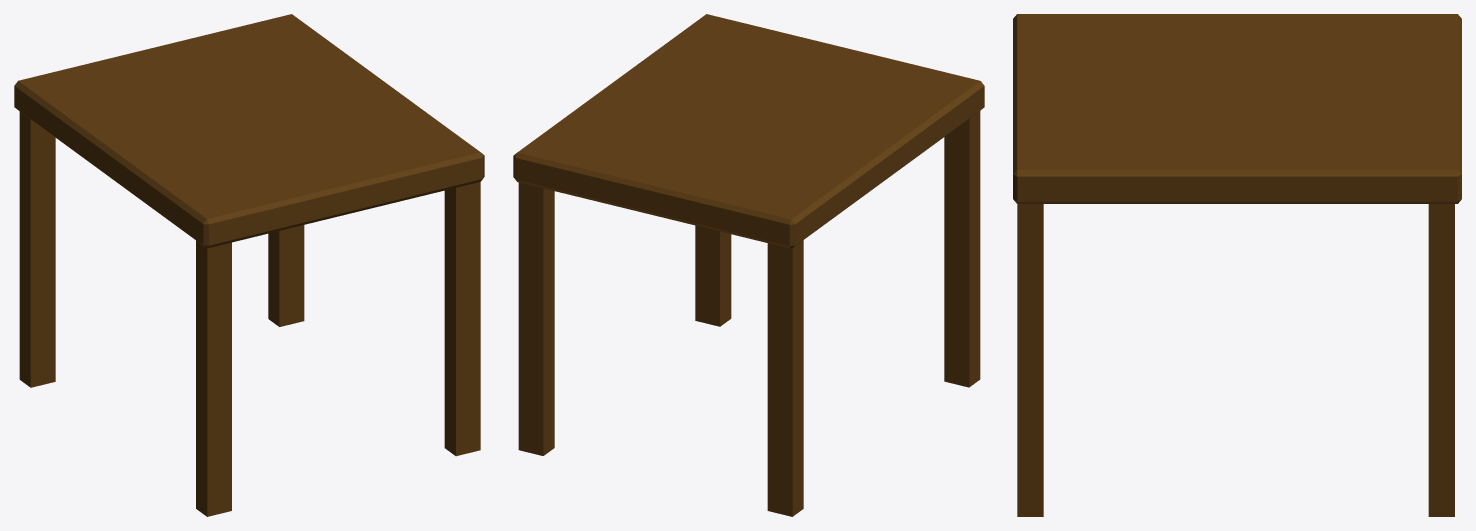
File: table.fbx
3 renders of one model, left to right at view 1: azimuth 30°, elevation 25°; view 2: azimuth 150°, elevation 25°; view 3: azimuth 270°, elevation 25°, orthographic. The views are drawn at different scales.
Parts seen in each view (by area): view 1: Cube; view 2: Cube; view 3: Cube.
Part boxes in pixels (left/top/right/bottom): Cube: left=14, top=14, right=484, bottom=516; Cube: left=513, top=14, right=984, bottom=516; Cube: left=1013, top=14, right=1461, bottom=516.
Bounding box in the file's own units: 81.48 × 82.44 × 96.54.
